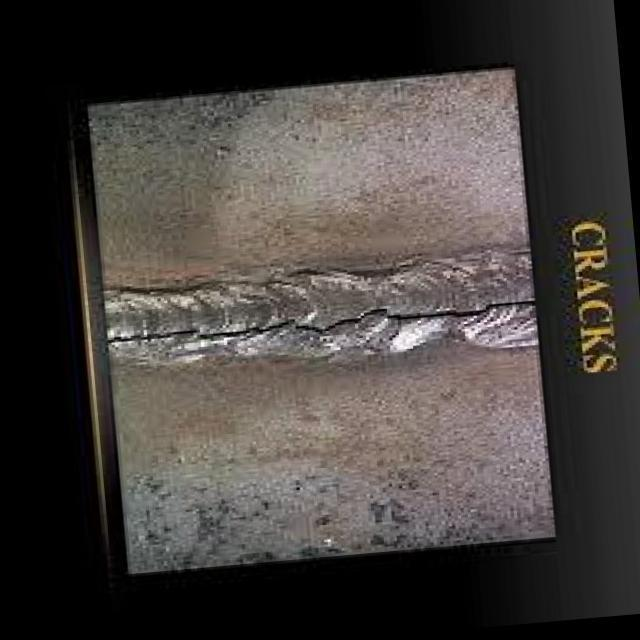defect: (104, 295, 537, 350)
